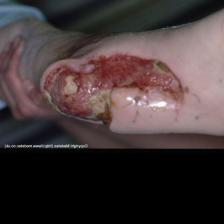Wound: (41, 54, 194, 127)
